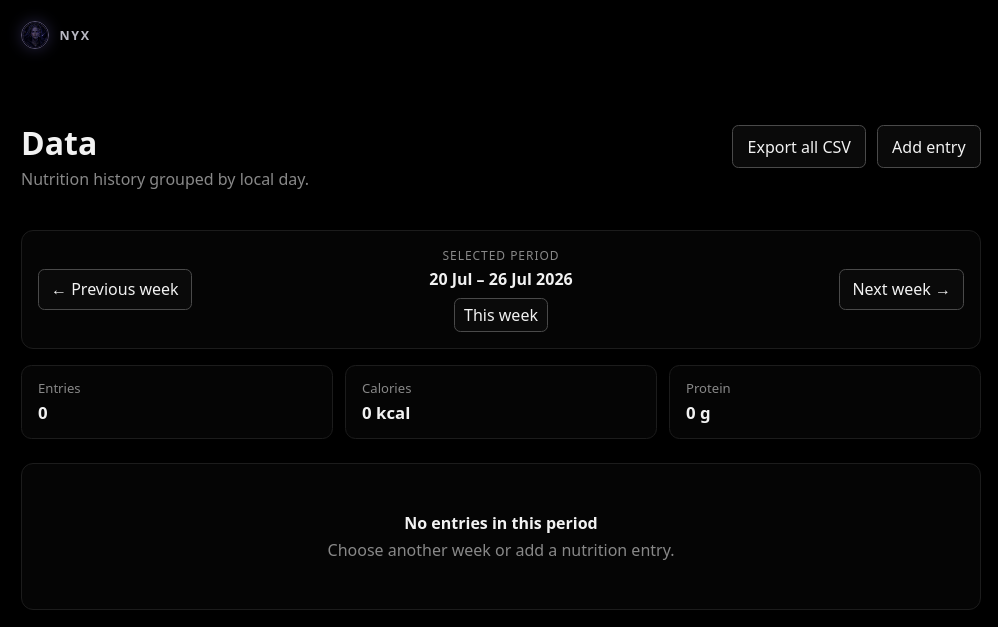
Test: DataPage weekly history › returns to the current period and disables future navigation
Check: the text "No entries in this period" is shown, box [404, 512, 598, 534]
Click the button "This week" at {"x": 501, "y": 315}, box [454, 298, 548, 332]
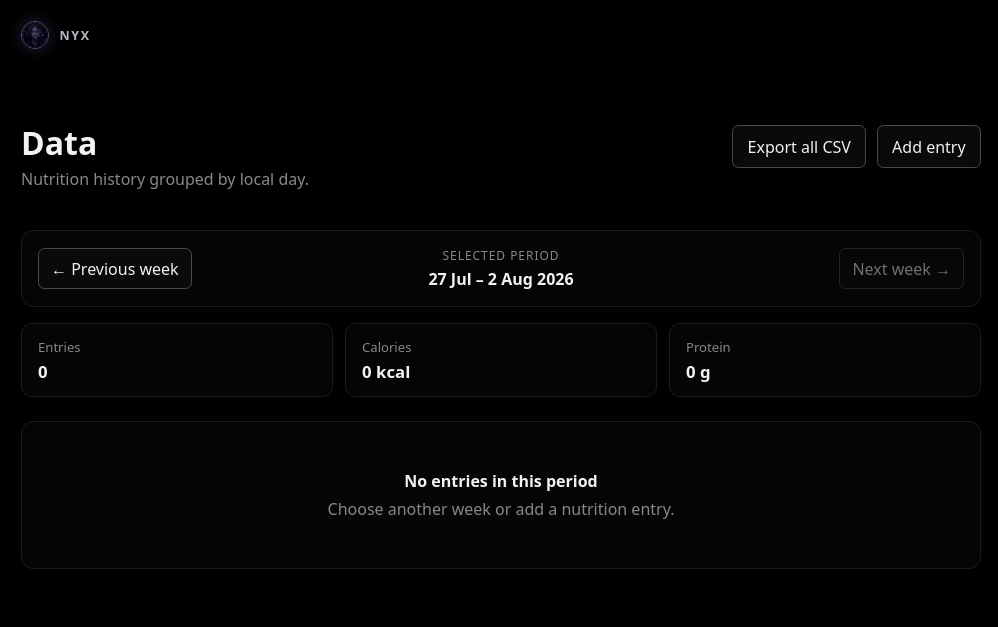
Check: the button "Next week →" is disabled, box [839, 248, 964, 289]
Check: the button "This week" is gone
